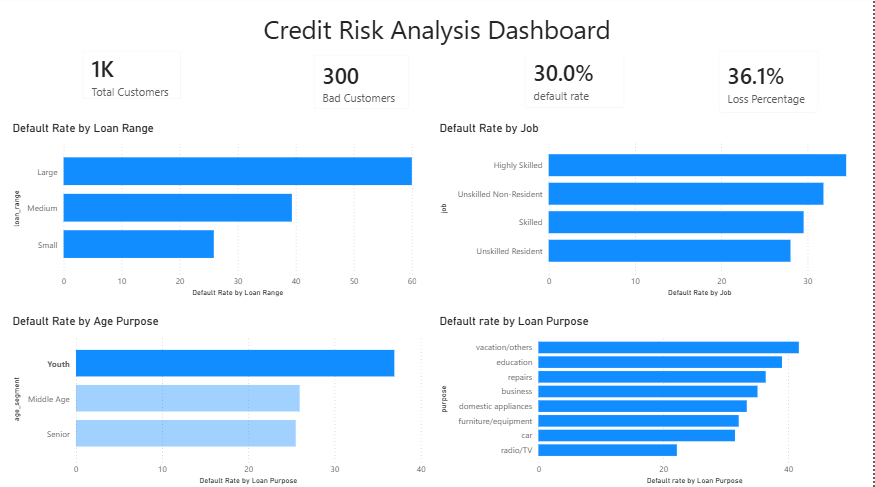

The dashboard page shown, as its layout file describes it:
{"tool":"powerbi","page":{"name":"Page 1","canvas":[1280,720],"ordinal":0},"visuals":[{"type":"cardVisual","fields":{"Data":["Sum(credit_project overall_portfolio_summary.total_customers)"]},"box":[105.4,62.9,178.5,105.4],"z":0},{"type":"cardVisual","fields":{"Data":["Sum(credit_project overall_portfolio_summary.bad_customers)"]},"box":[443.4,68.8,174.1,114.1],"z":1},{"type":"cardVisual","fields":{"Data":["Sum(credit_project overall_portfolio_summary.Correct_default_rate)"]},"box":[752.2,62.9,180,118.5],"z":2},{"type":"cardVisual","fields":{"Data":["Sum(credit_project overall_portfolio_summary.Loss Percentage)"]},"box":[1036.1,62.9,180,125.9],"z":3},{"type":"clusteredBarChart","title":" Default Rate by Loan Range  ","fields":{"Category":["credit_project loan_range_risk_summary.loan_range"],"Y":["Avg(credit_project loan_range_risk_summary.default_rate)"]},"box":[14.6,182.9,601.5,262],"z":4},{"type":"barChart","title":" Default Rate by Loan Purpose ","fields":{"Category":["credit_project age_segment_risk_summary.age_segment"],"Y":["Avg(credit_project age_segment_risk_summary.default_rate)"]},"box":[14.6,465.4,614.6,254.6],"z":5},{"type":"barChart","title":"Default Rate by Job","fields":{"Category":["credit_project job_risk_summary.job"],"Y":["Avg(credit_project job_risk_summary.default_rate)"]},"box":[639.5,182.9,619,262],"z":6},{"type":"barChart","title":" Default rate by Loan Purpose","fields":{"Category":["credit_project purpose_risk_summary.purpose"],"Y":["Avg(credit_project purpose_risk_summary.default_rate)"]},"box":[639.5,465.4,619,254.6],"z":7},{"type":"textbox","box":[283.9,17.6,714.1,65.9],"z":8}]}

Visuals, with their boxes in screenshot pixels (x1, y1, x2, y2), scaled from the page's 1280x720 canvas onto the 875x487 screenshot:
cardVisual - Sum(credit_project overall_portfolio_summary.total_customers): crop(72, 43, 194, 114)
cardVisual - Sum(credit_project overall_portfolio_summary.bad_customers): crop(303, 47, 422, 124)
cardVisual - Sum(credit_project overall_portfolio_summary.Correct_default_rate): crop(514, 43, 637, 123)
cardVisual - Sum(credit_project overall_portfolio_summary.Loss Percentage): crop(708, 43, 831, 128)
" Default Rate by Loan Range  " clusteredBarChart: crop(10, 124, 421, 301)
" Default Rate by Loan Purpose " barChart: crop(10, 315, 430, 486)
"Default Rate by Job" barChart: crop(437, 124, 860, 301)
" Default rate by Loan Purpose" barChart: crop(437, 315, 860, 486)
textbox: crop(194, 12, 682, 56)
